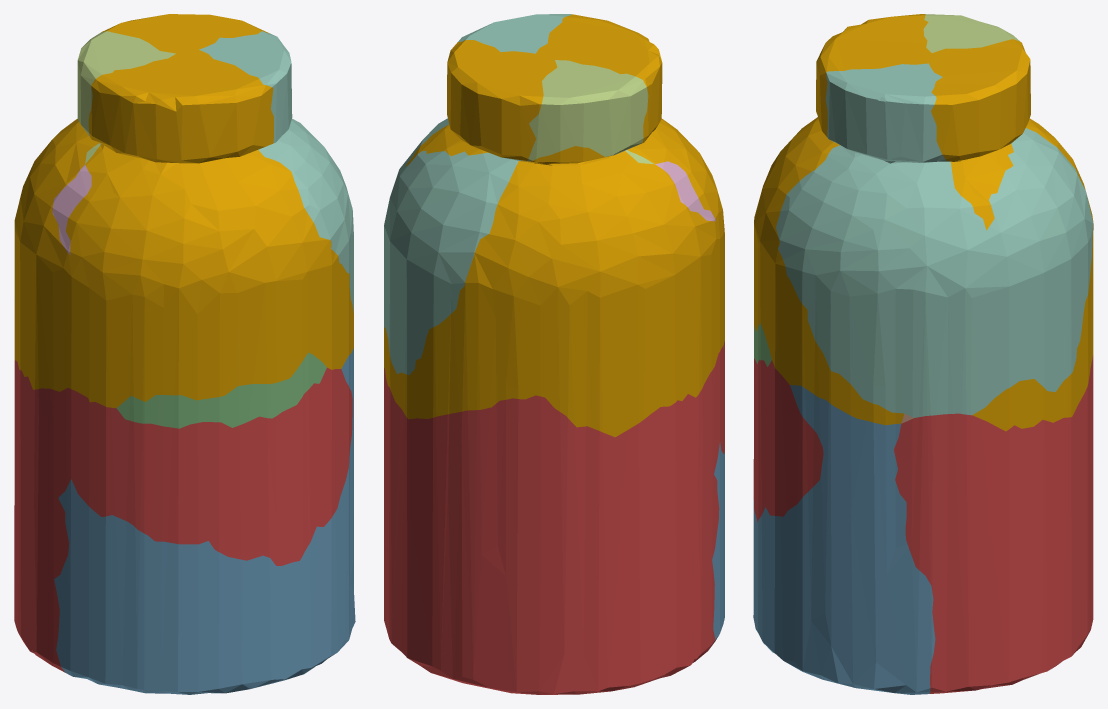
File: fractured_39_8pcs.glb
3 views of the same model, side by side, from view 1: azimuth 30°, elevation 25°; view 2: azimuth 150°, elevation 25°; view 3: azimuth 270°, elevation 25° (orthographic).
Parts seen in each view (by area): view 1: piece_0.obj, piece_1.obj, piece_2.obj, piece_4.obj, piece_3.obj, piece_5.obj, piece_6.obj; view 2: piece_1.obj, piece_0.obj, piece_4.obj, piece_5.obj, piece_2.obj, piece_6.obj; view 3: piece_4.obj, piece_1.obj, piece_2.obj, piece_0.obj, piece_5.obj.
Part boxes in pixels (x1,y1,x2,y2): piece_0.obj: (14, 14, 353, 408); piece_1.obj: (14, 360, 352, 672); piece_2.obj: (54, 348, 355, 694); piece_4.obj: (199, 31, 353, 312); piece_3.obj: (116, 352, 326, 428); piece_5.obj: (77, 31, 175, 163); piece_6.obj: (52, 164, 91, 254); piece_1.obj: (384, 341, 724, 694); piece_0.obj: (384, 14, 724, 437); piece_4.obj: (384, 14, 571, 375); piece_5.obj: (527, 60, 654, 164); piece_2.obj: (712, 442, 724, 643); piece_6.obj: (655, 161, 715, 221); piece_4.obj: (776, 63, 1093, 417); piece_1.obj: (753, 355, 1093, 693); piece_2.obj: (753, 385, 935, 694); piece_0.obj: (754, 14, 1093, 431); piece_5.obj: (923, 14, 1019, 52).
Bounding box in the file's own units: 0.5393 × 1 × 0.5392.
